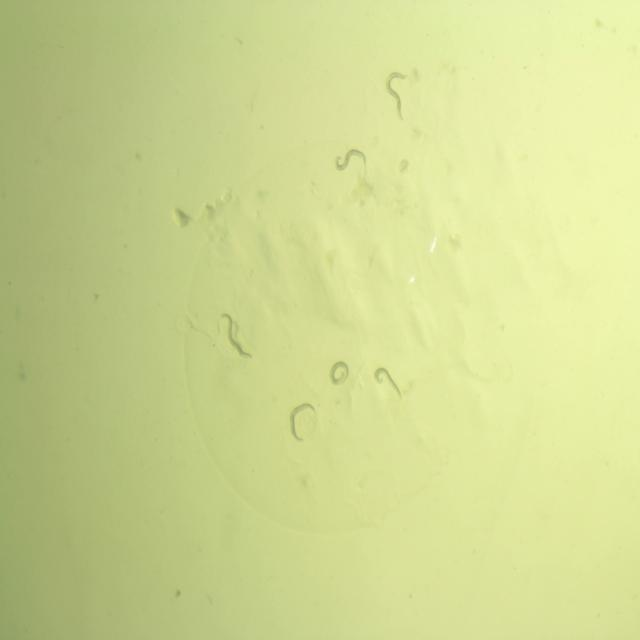worm: (219, 312, 253, 365), (384, 69, 412, 124), (286, 401, 318, 446), (372, 365, 403, 402), (333, 145, 367, 176), (326, 358, 351, 389)
